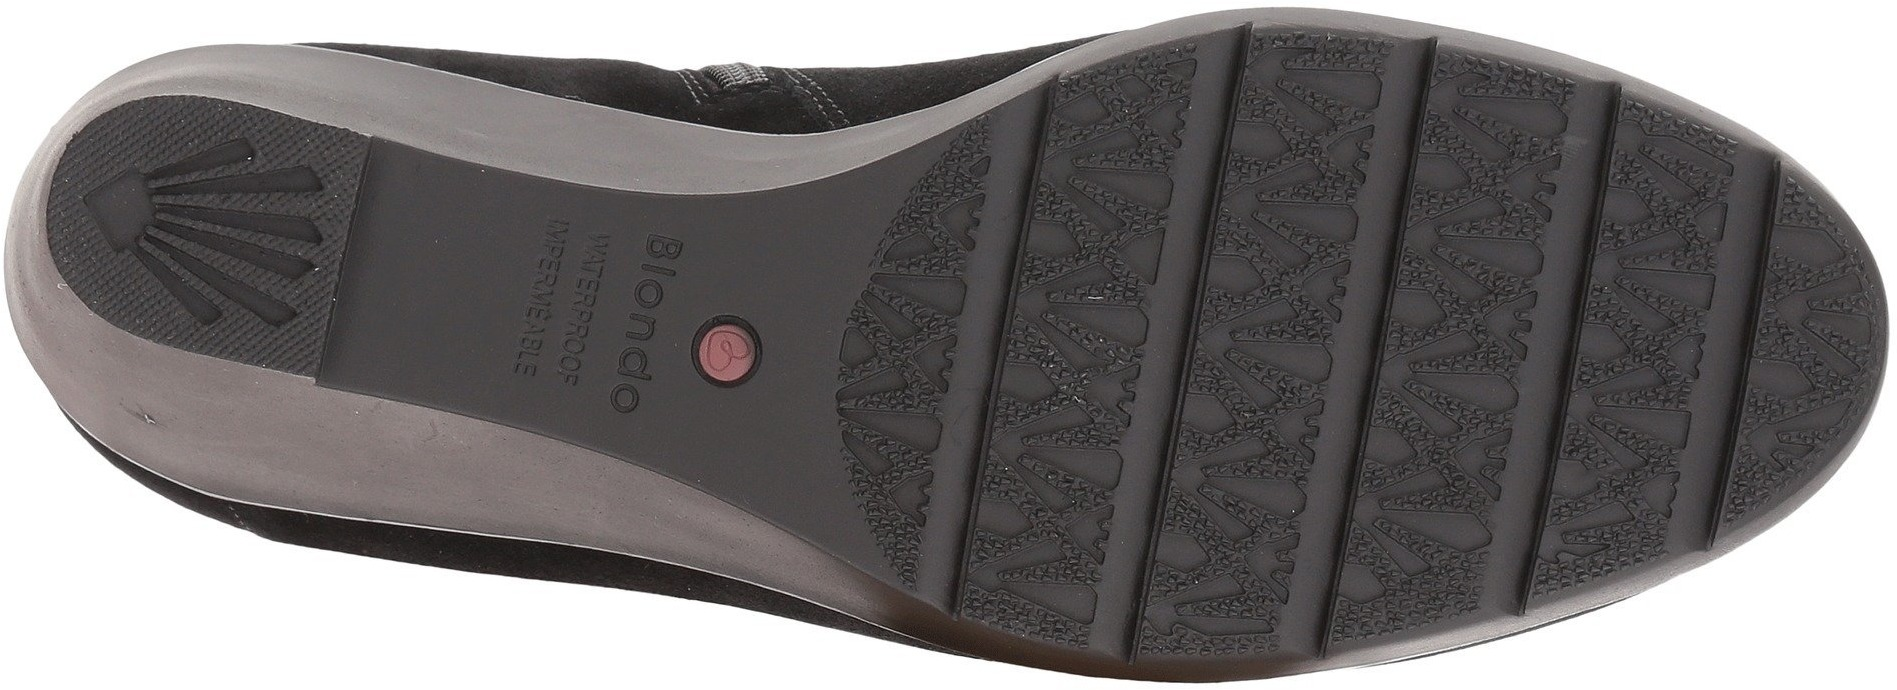chevron: (1019, 130, 1374, 462)
circle: (675, 305, 782, 399)
line: (1019, 130, 1374, 462), (941, 441, 1194, 675)
other: (955, 99, 1553, 613), (1556, 200, 1846, 481)
star: (103, 117, 336, 339)
triangle: (1019, 130, 1374, 462), (941, 441, 1194, 675), (103, 117, 336, 339)
